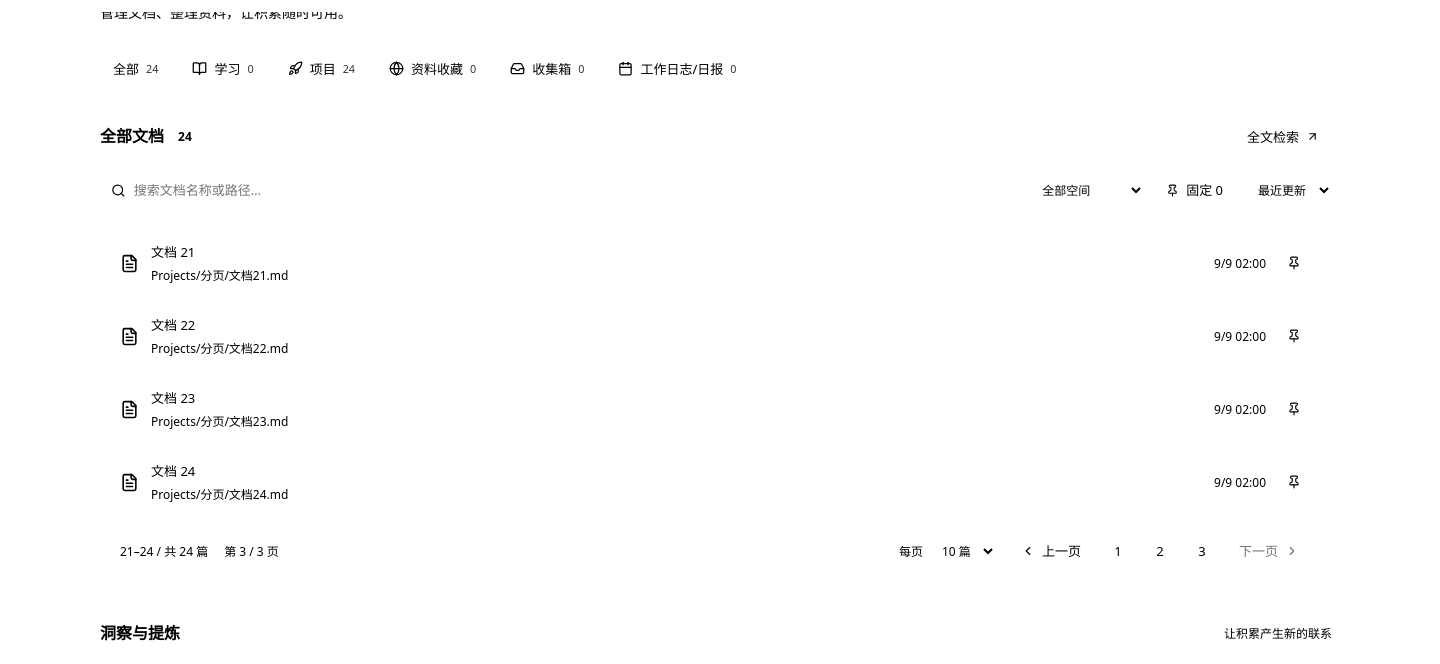
Test case: KnowledgeVaultView pagination › resets to page one after changing the search filter
(page scrolled)
Type "文档 2" into the search field with test id "vault-search" at [571, 190], box [134,172,1009,208]
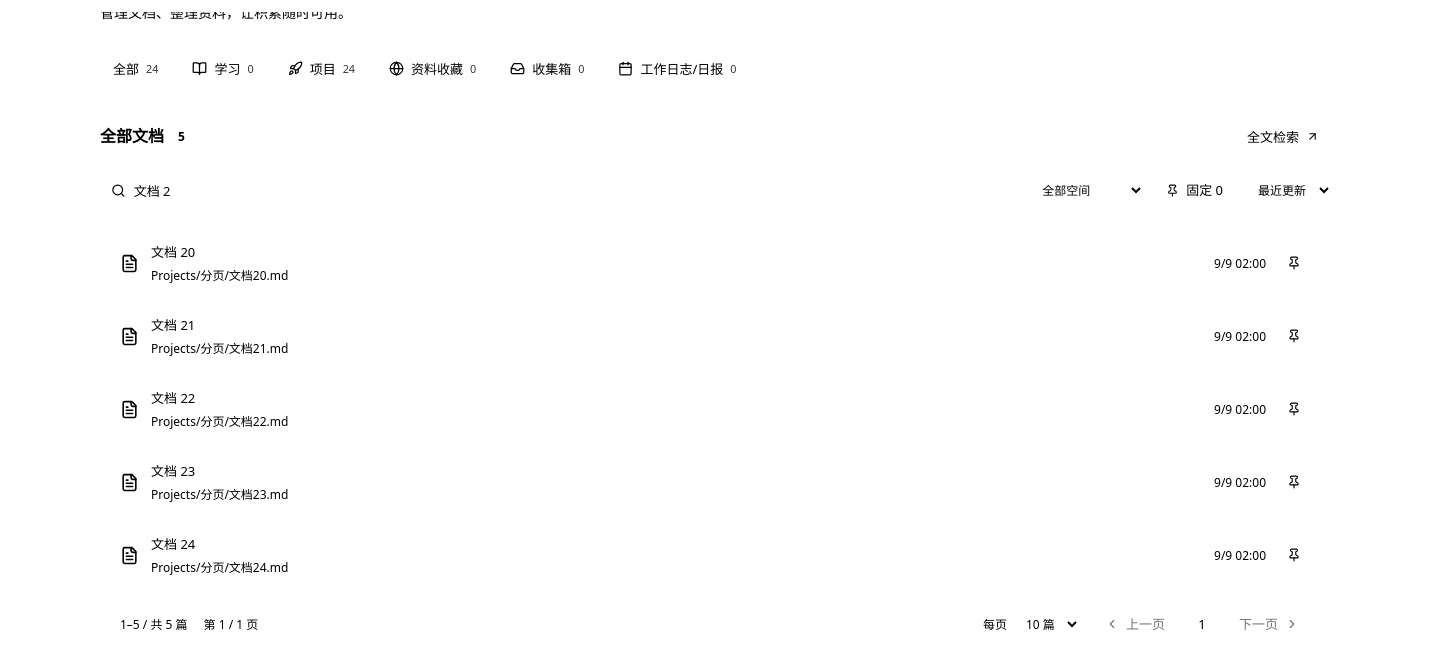
Result: the number of elements with test id "vault-document" is 5 at [120,227,1312,300]; [120,300,1312,373]; [120,373,1312,446]; [120,446,1312,519]; [120,519,1312,592]
Result: the element with test id "vault-document" shows "文档 20" at [120,239,1204,288]
